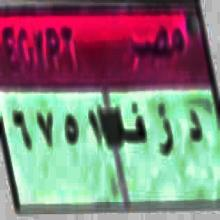1: (87, 106, 103, 156)
5: (64, 109, 81, 160)
6: (11, 106, 32, 161)
7: (37, 105, 56, 158)
daal: (186, 99, 204, 165)
faa: (115, 96, 148, 154)
zay: (153, 100, 176, 164)
